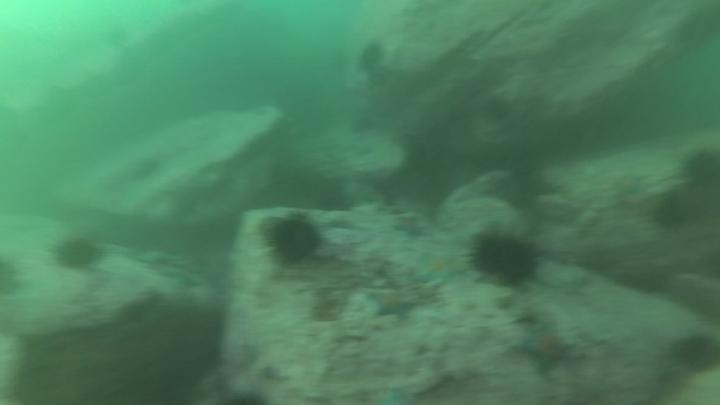echinus: (467, 229, 543, 290), (263, 213, 326, 269), (669, 330, 720, 376), (50, 233, 105, 275), (678, 145, 720, 191), (649, 192, 691, 233), (355, 39, 388, 78), (0, 253, 26, 300)
starfish: (513, 322, 578, 379), (412, 249, 469, 289), (362, 286, 418, 323), (608, 169, 652, 202), (390, 214, 431, 241)
